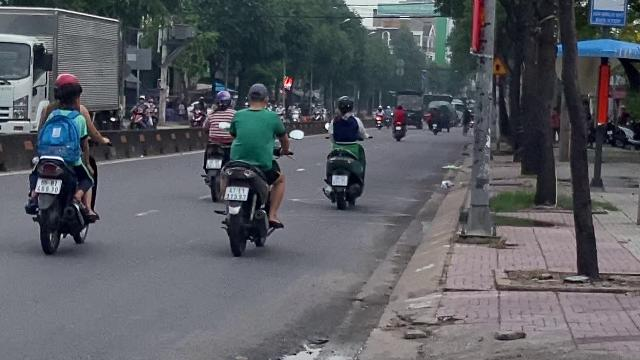helmet: (52, 73, 84, 87), (214, 89, 232, 109), (336, 96, 354, 114)
licenseplate: (36, 179, 60, 194), (225, 186, 247, 200), (332, 175, 346, 185)
motorcyclist: (22, 71, 106, 253), (214, 82, 290, 255), (320, 95, 368, 209)
nohelmet: (52, 83, 84, 117), (245, 84, 269, 108)
